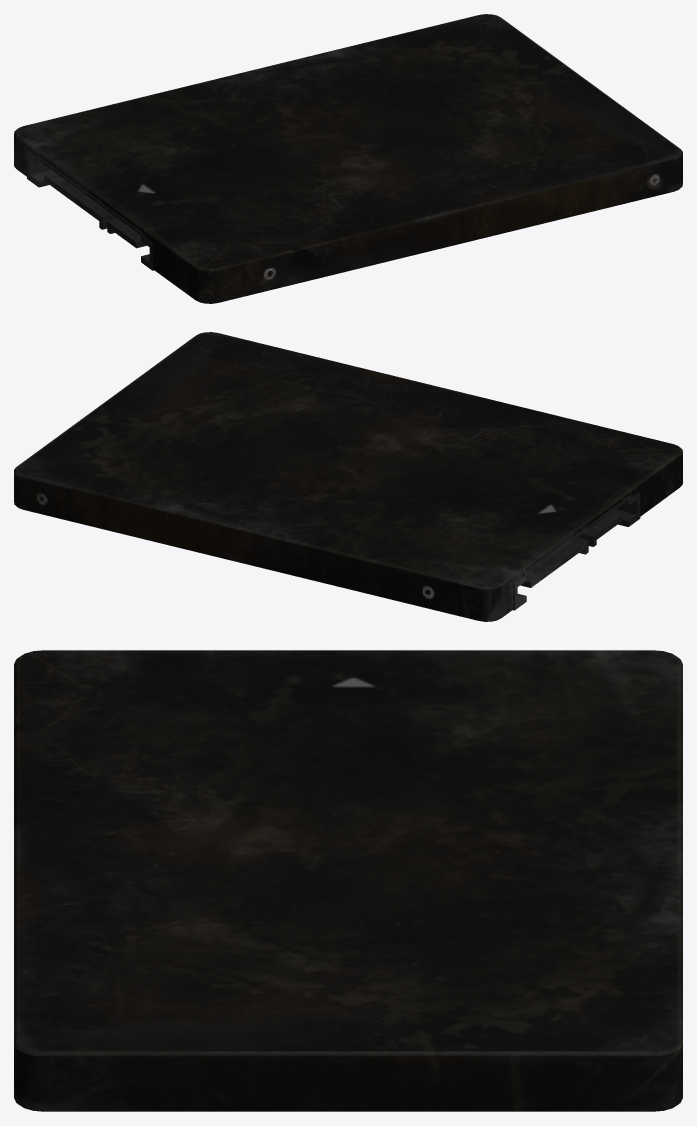
The model's file is SSD_samsung_2.5in_-_dirty.glb.
3 renders of one model, top to bottom at view 1: azimuth 30°, elevation 25°; view 2: azimuth 150°, elevation 25°; view 3: azimuth 270°, elevation 25°, orthographic. The views are drawn at different scales.
Parts seen in each view (by area): view 1: SSD 2.5in - TT; view 2: SSD 2.5in - TT; view 3: SSD 2.5in - TT.
Boxes of the visible parts, x1,y1,x2,y2 form: SSD 2.5in - TT: (14, 14, 682, 303); SSD 2.5in - TT: (14, 332, 682, 621); SSD 2.5in - TT: (14, 650, 682, 1111).
Size of the model in its own units: 0.1002 by 0.0068 by 0.0698.
1 material, 1 textured.
